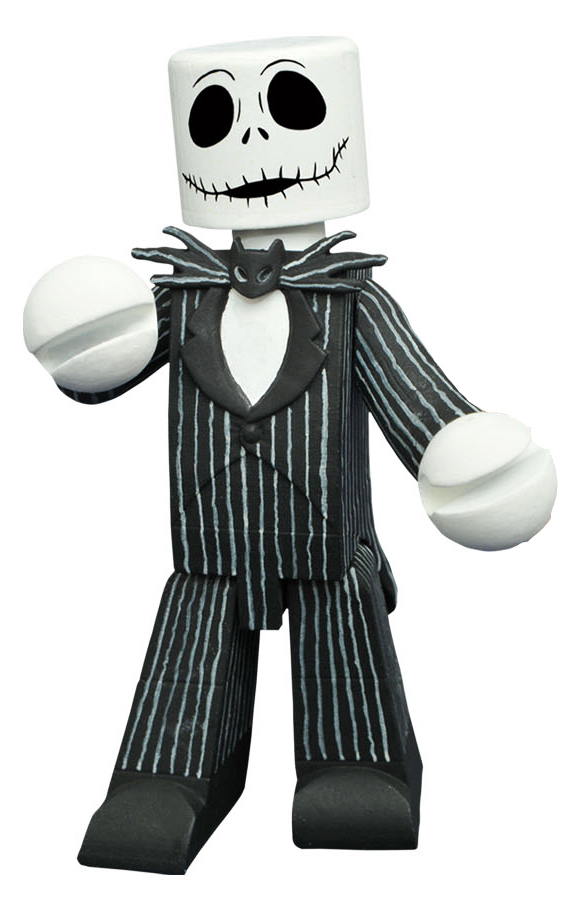Jack Skellington: (21, 32, 562, 877)
